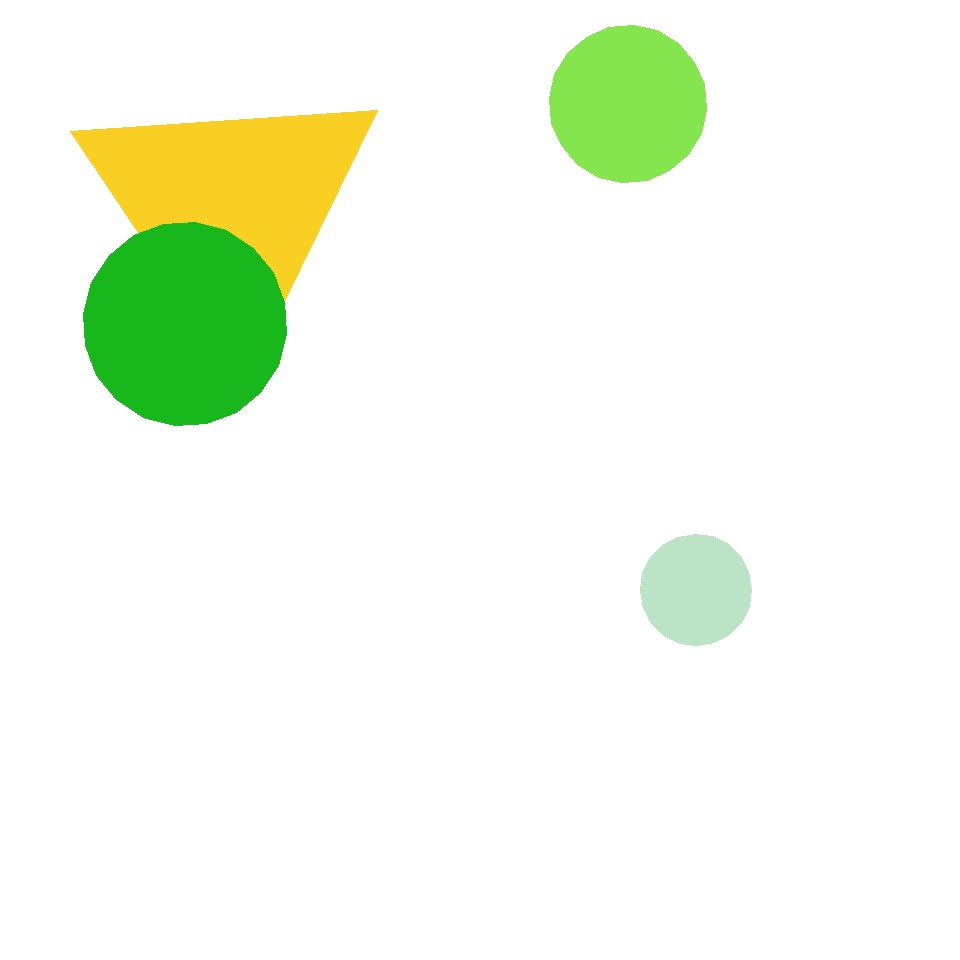circle: (77, 72, 384, 348), (652, 717, 820, 871), (567, 66, 674, 188), (184, 747, 286, 857)
square: (312, 362, 627, 678)
triangle: (416, 633, 724, 942), (84, 223, 286, 426), (550, 26, 706, 183), (430, 568, 571, 710), (640, 534, 752, 646)
